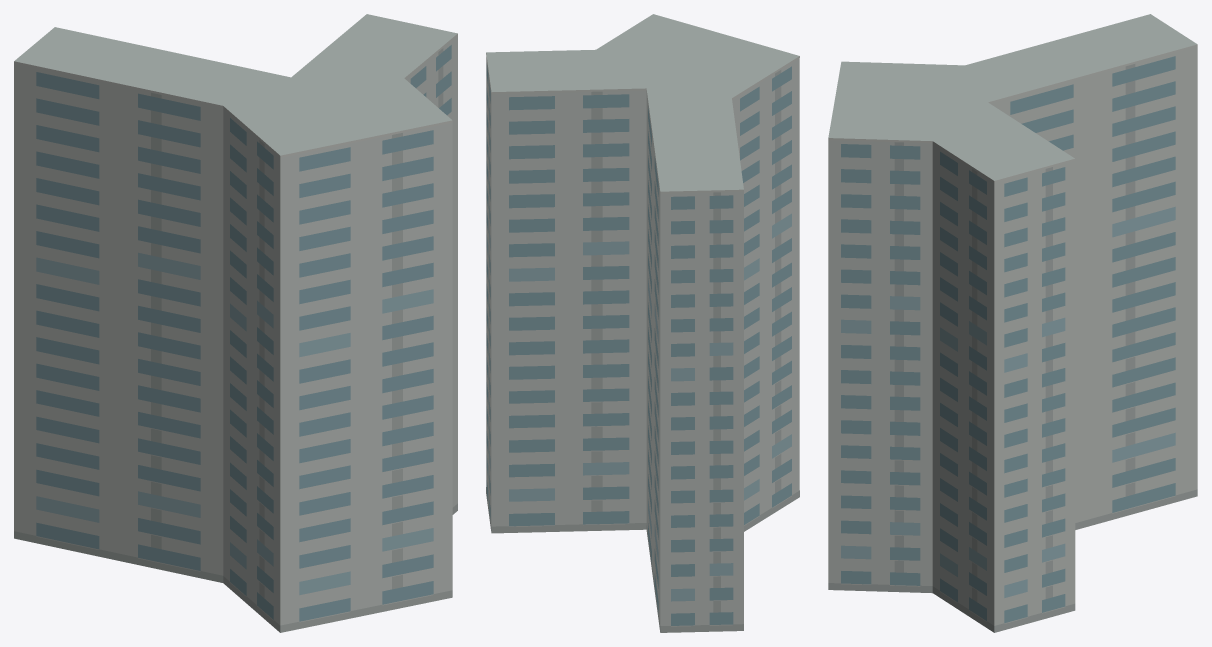
File: residential-5506b3d7-492b-4ee5-8af9-6d7f210cb8b8.glb
The picture shows the model from 3 angles, left to right: view 1: azimuth 30°, elevation 25°; view 2: azimuth 150°, elevation 25°; view 3: azimuth 270°, elevation 25°; orthographic projection. The views are drawn at different scales.
Visible parts, largest first — view 1: residential-5506b3d7-492b-4ee5-8af9-6d7f210cb8b8.tmp; view 2: residential-5506b3d7-492b-4ee5-8af9-6d7f210cb8b8.tmp; view 3: residential-5506b3d7-492b-4ee5-8af9-6d7f210cb8b8.tmp.
Part boxes in pixels (x1,y1,x2,y2): residential-5506b3d7-492b-4ee5-8af9-6d7f210cb8b8.tmp: (14,14,457,632); residential-5506b3d7-492b-4ee5-8af9-6d7f210cb8b8.tmp: (486,14,799,632); residential-5506b3d7-492b-4ee5-8af9-6d7f210cb8b8.tmp: (828,14,1197,632).
Bounding box in the file's own units: 41.21 × 52 × 38.53.
